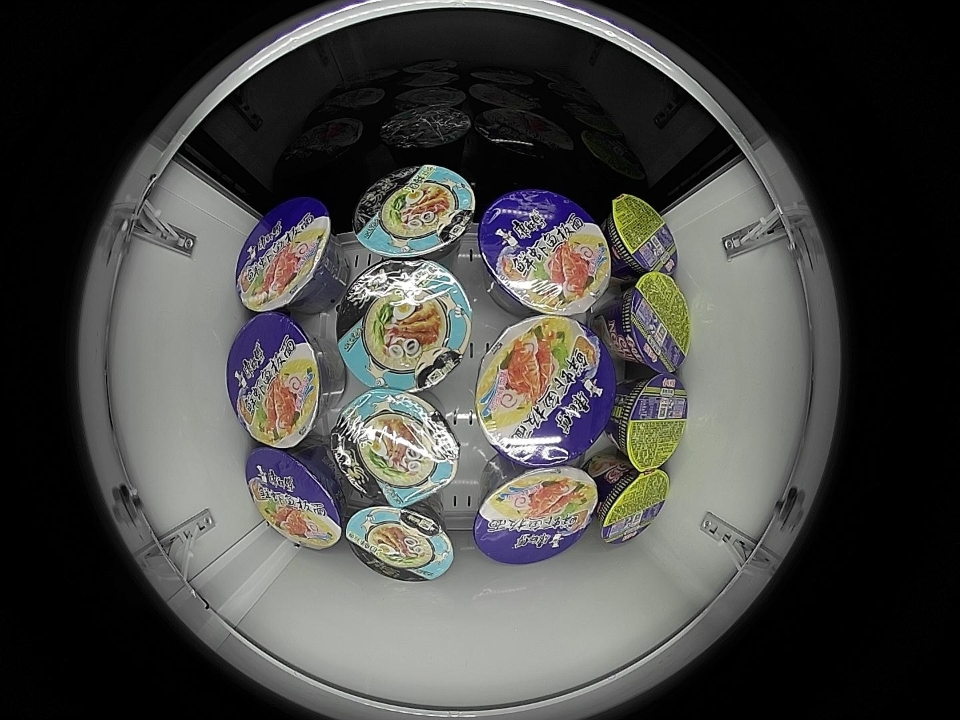heweidao: (615, 271, 691, 374), (613, 373, 688, 471), (596, 467, 671, 545), (606, 194, 677, 276)
tangdaren3: (335, 258, 473, 392), (332, 390, 459, 506), (353, 163, 476, 260), (345, 503, 454, 582)
xianxiayuban: (473, 316, 617, 466), (477, 188, 612, 314), (226, 312, 327, 448), (472, 464, 599, 564), (235, 197, 339, 312), (246, 447, 344, 550)
